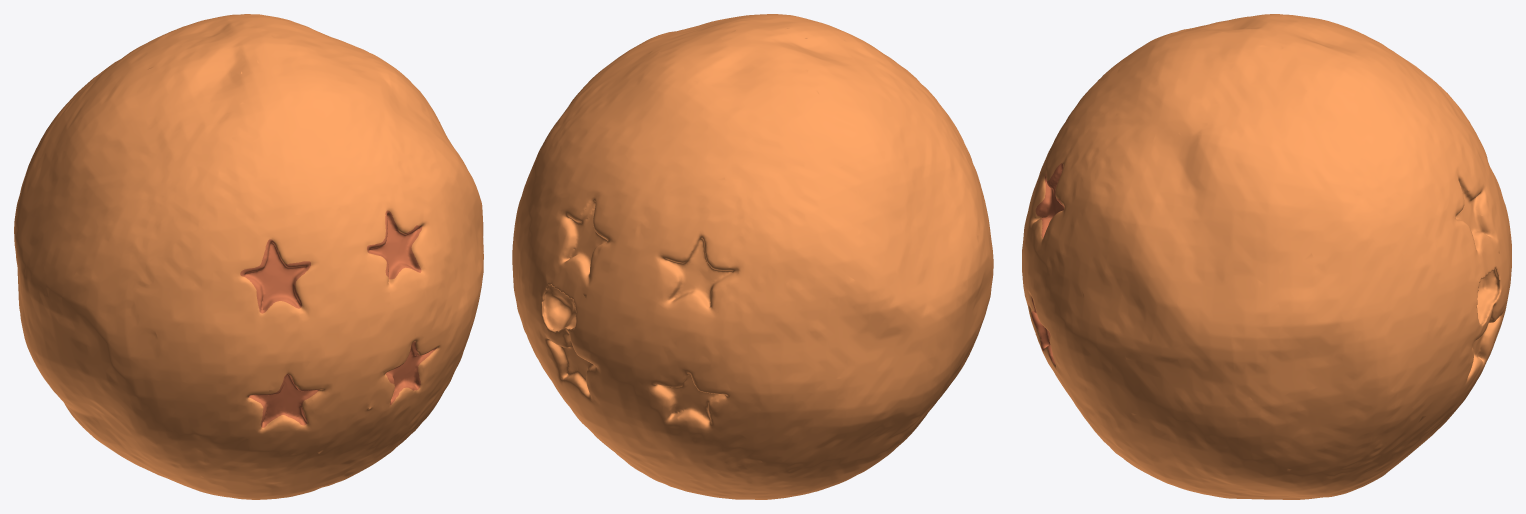
File: Stack 3B - Dragon Ball.glb
The picture shows the model from 3 angles, left to right: view 1: azimuth 30°, elevation 25°; view 2: azimuth 150°, elevation 25°; view 3: azimuth 270°, elevation 25°; orthographic projection. The views are drawn at different scales.
Parts seen in each view (by area): view 1: Stack 3B - Dragon Ball · mesh; view 2: Stack 3B - Dragon Ball · mesh; view 3: Stack 3B - Dragon Ball · mesh.
Boxes of the visible parts, x1,y1,x2,y2 form: Stack 3B - Dragon Ball · mesh: (14, 14, 483, 499); Stack 3B - Dragon Ball · mesh: (512, 14, 993, 499); Stack 3B - Dragon Ball · mesh: (1022, 14, 1511, 499).
Bounding box in the file's own units: 0.9917 × 1 × 0.9946.
